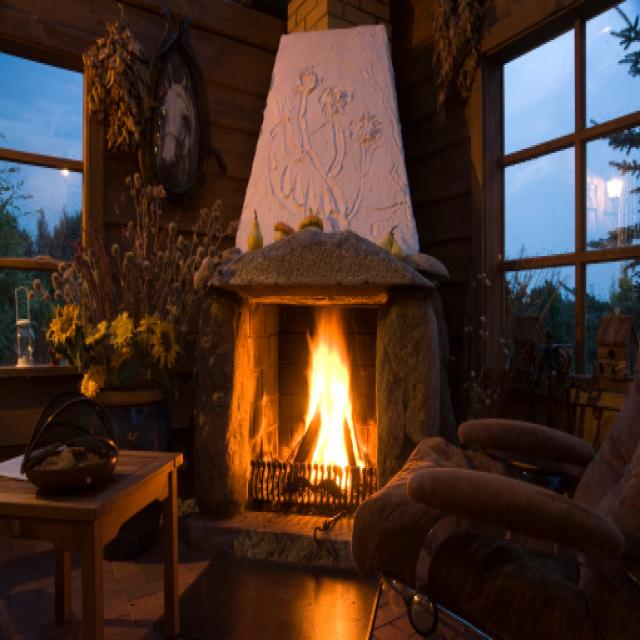Table: (0, 419, 190, 640)
chair: (336, 358, 637, 640)
